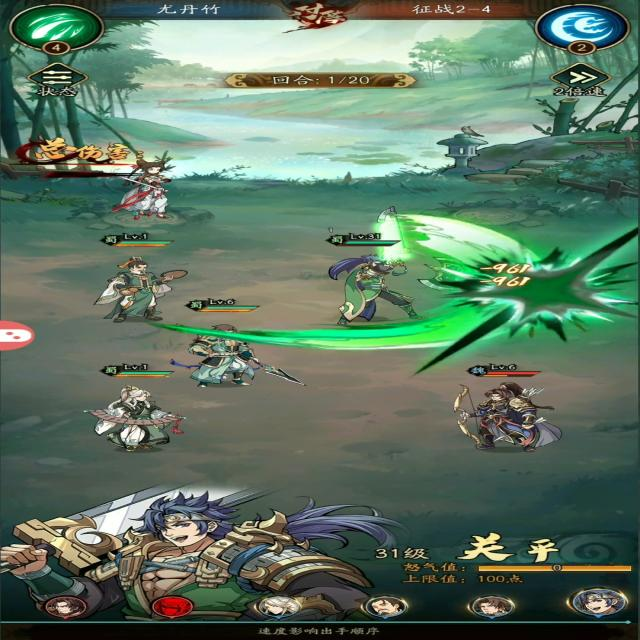hint-guide: (245, 620, 387, 640)
operation-fightspeed: (548, 65, 612, 106)
operation-state: (19, 64, 102, 103)
